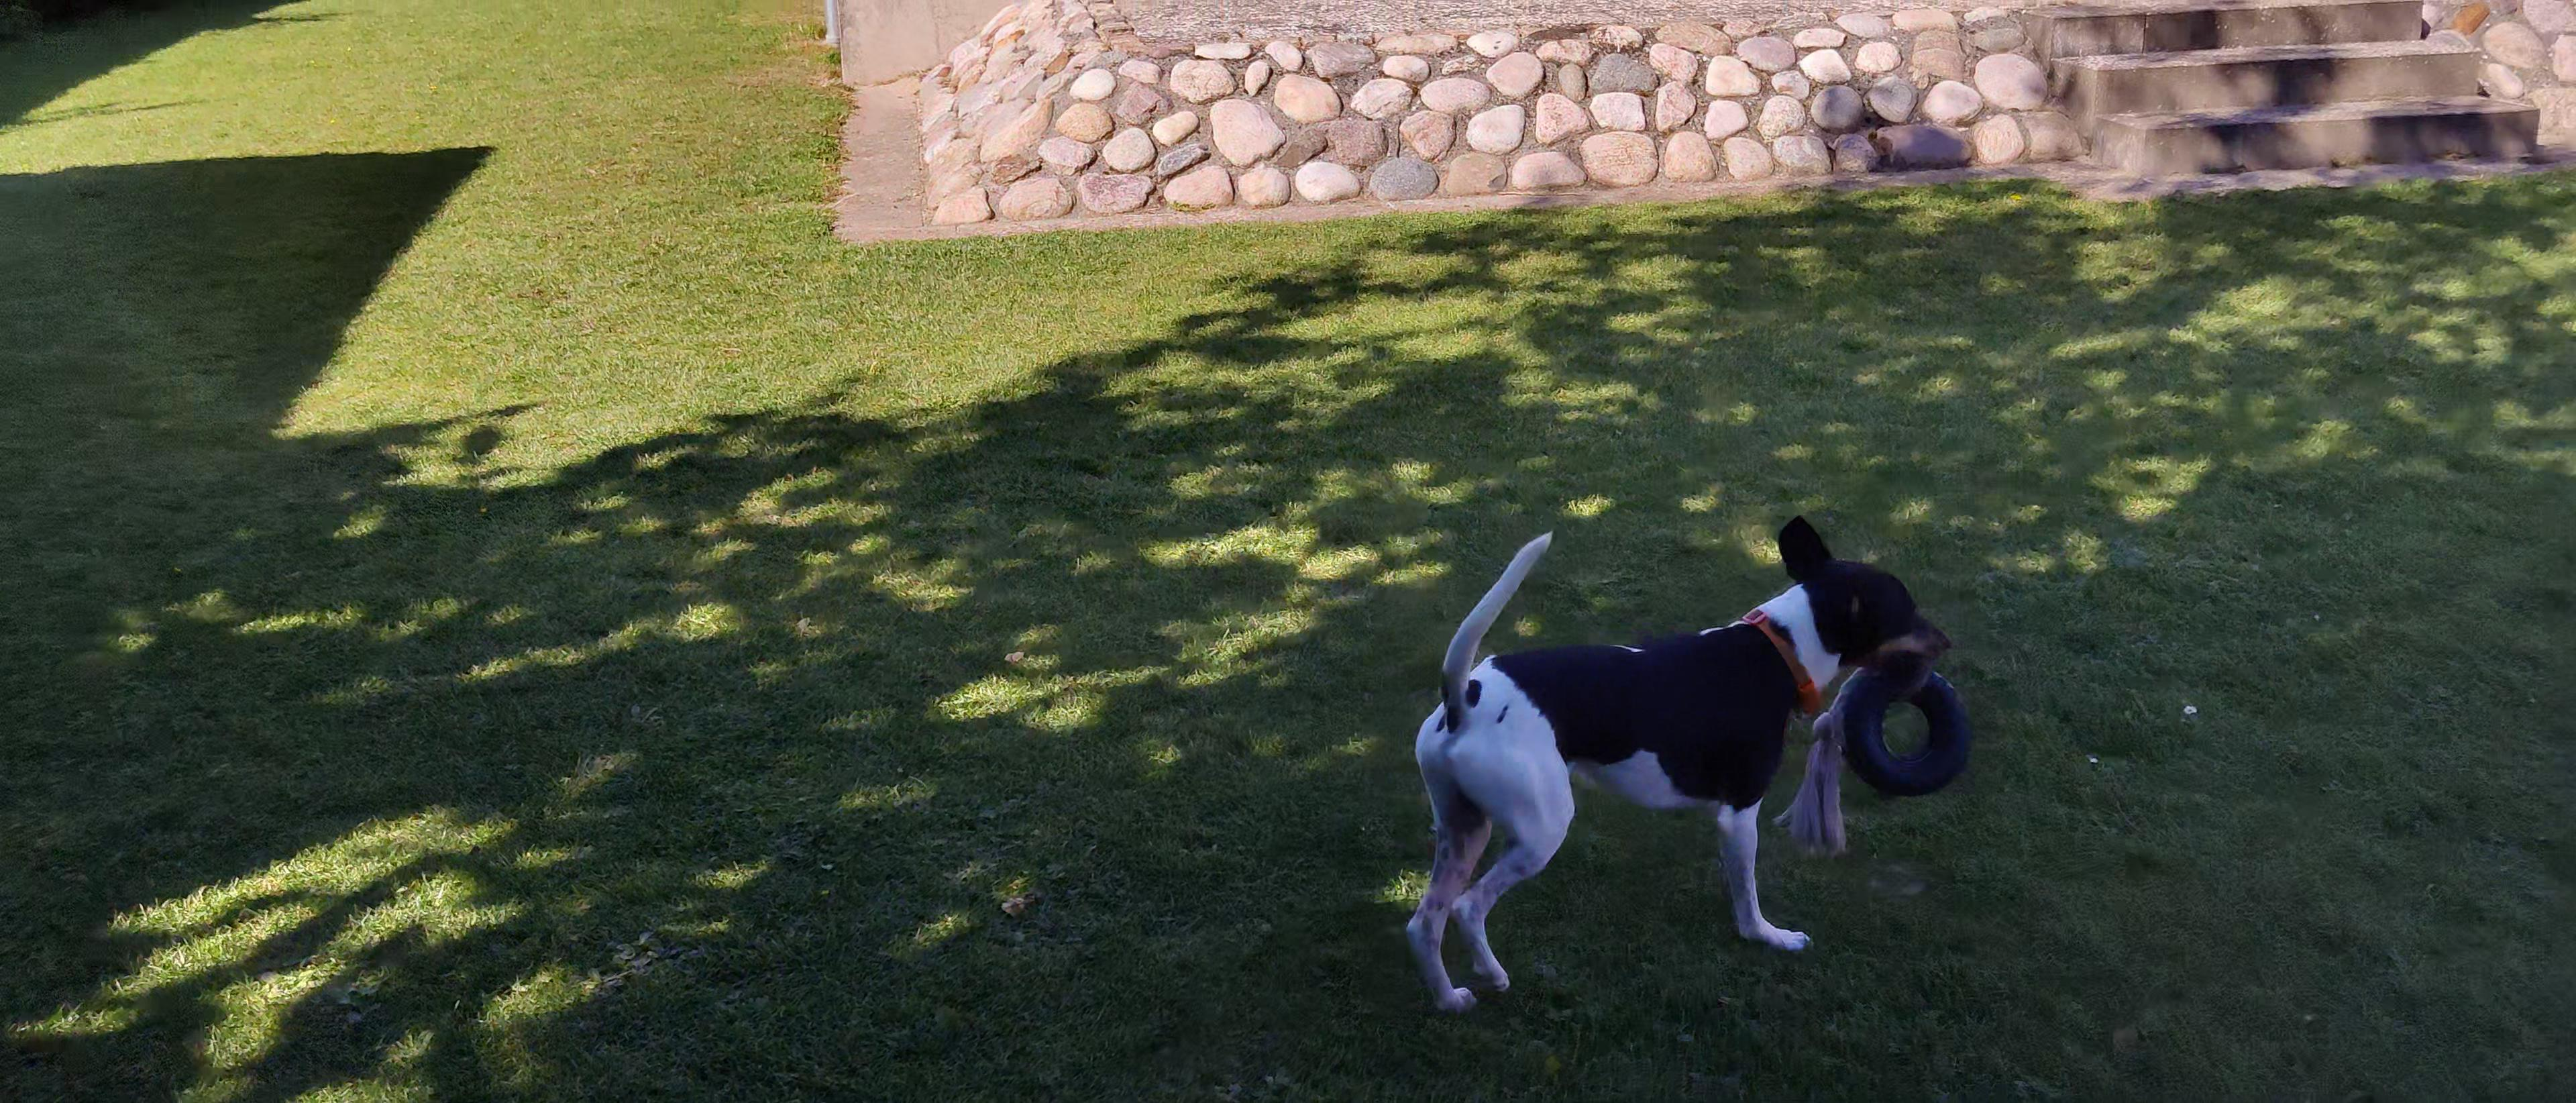Dog: (1398, 511, 1957, 1016)
